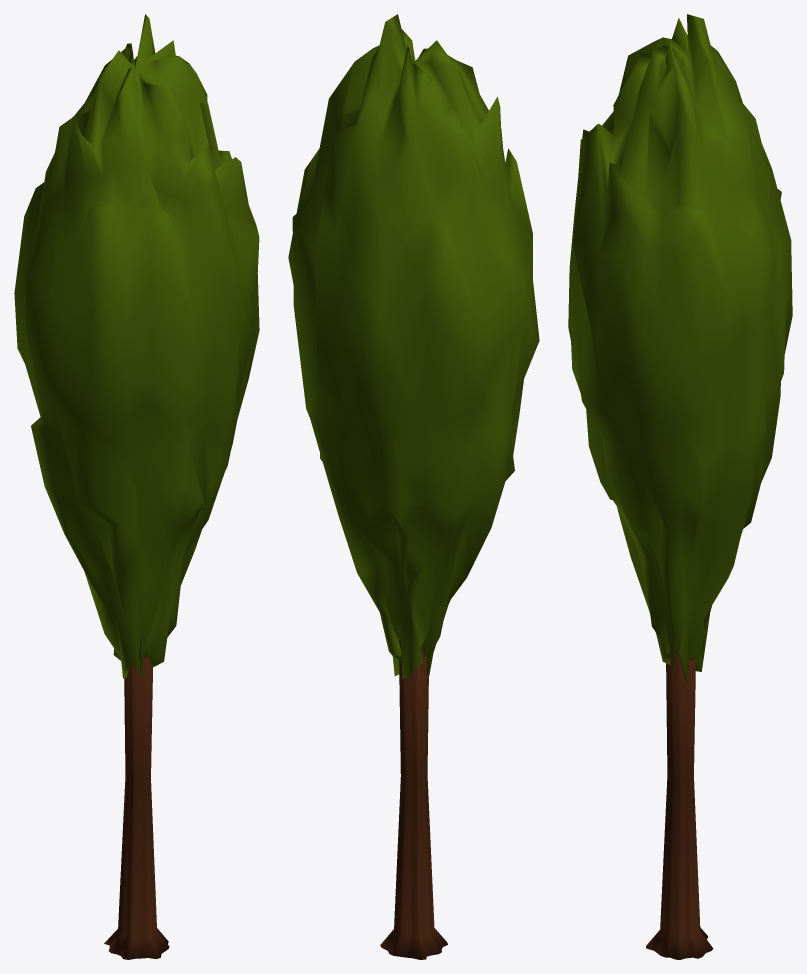
The model's file is Poppel.fbx.
The picture shows the model from 3 angles, left to right: view 1: azimuth 30°, elevation 25°; view 2: azimuth 150°, elevation 25°; view 3: azimuth 270°, elevation 25°; orthographic projection.
Visible parts, largest first — view 1: Sphere, Cylinder; view 2: Sphere, Cylinder; view 3: Sphere, Cylinder.
Boxes of the visible parts, box(x1,y1,x2,y2) form: Sphere: box(14, 14, 259, 678); Cylinder: box(104, 657, 169, 959); Sphere: box(288, 14, 539, 679); Cylinder: box(380, 640, 447, 959); Sphere: box(568, 14, 792, 683); Cylinder: box(646, 642, 713, 959).
Bounding box in the file's own units: 181 × 735 × 159.
